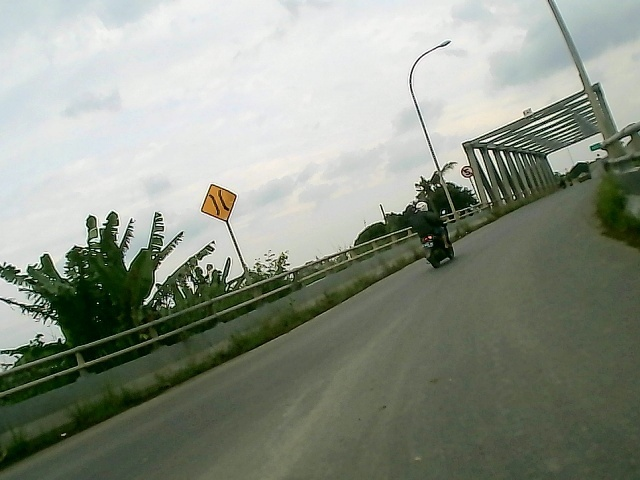Jembatan: (196, 181, 241, 225)
